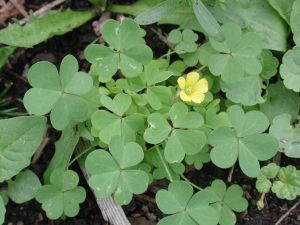oxalis: (19, 33, 285, 196)
